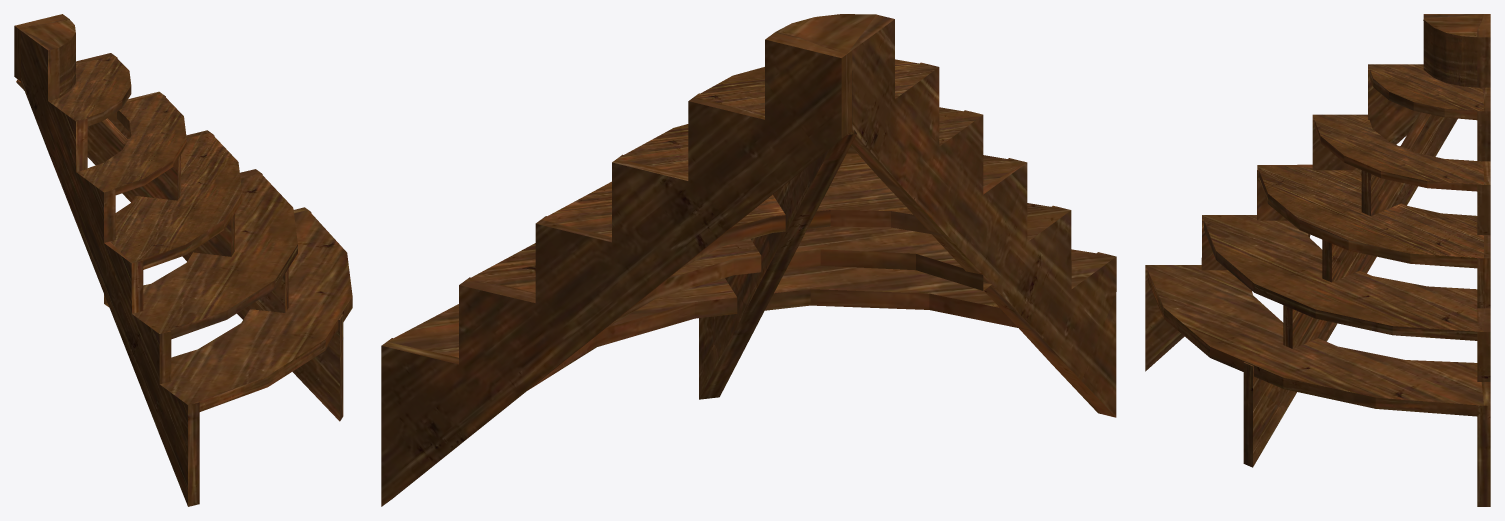
3 views of the same model, side by side, from view 1: azimuth 30°, elevation 25°; view 2: azimuth 150°, elevation 25°; view 3: azimuth 270°, elevation 25° (orthographic). The views are drawn at different scales.
Parts seen in each view (by area): view 1: SM_BB_T2_Stairs_OurterCornerCurve_LOD0; view 2: SM_BB_T2_Stairs_OurterCornerCurve_LOD0; view 3: SM_BB_T2_Stairs_OurterCornerCurve_LOD0.
Part boxes in pixels (x1=…): SM_BB_T2_Stairs_OurterCornerCurve_LOD0: x1=14, y1=14, x2=352, y2=506; SM_BB_T2_Stairs_OurterCornerCurve_LOD0: x1=381, y1=14, x2=1116, y2=506; SM_BB_T2_Stairs_OurterCornerCurve_LOD0: x1=1145, y1=14, x2=1490, y2=506.
Bounding box in the file's own units: 1.53 × 1.75 × 1.56.
1 material, 1 textured.
